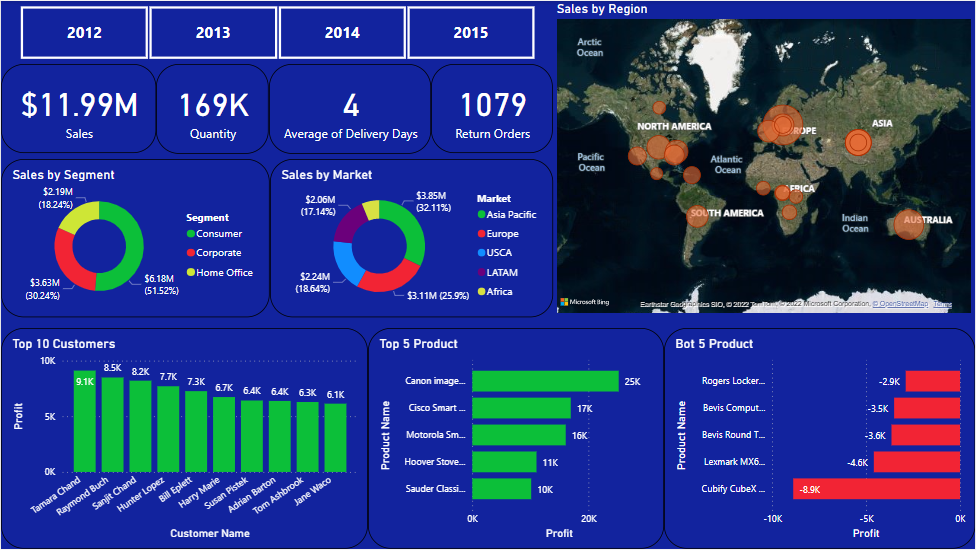

The page's visual inventory and layout, read from the dashboard file:
{"tool":"powerbi","page":{"name":"Page 1","canvas":[1280,720],"ordinal":0},"visuals":[{"type":"card","fields":{"Values":["Orders.Sales"]},"box":[0,85.4,203.6,114.3],"z":0},{"type":"card","fields":{"Values":["Orders.Quantity"]},"box":[203.6,84.1,148.5,116.9],"z":1000},{"type":"card","fields":{"Values":["Orders.Delivery Days"]},"box":[352.1,86.7,212.8,114.3],"z":2000},{"type":"slicer","fields":{"Values":["Orders.Year"]},"box":[0,0,706.9,82.8],"z":3000},{"type":"card","fields":{"Values":["Returns.Return Orders"]},"box":[565,85.4,141.9,114.3],"z":4000},{"type":"map","fields":{"Size":["Orders.Sales"],"Category":["Orders.Region"]},"box":[706.9,0,572.8,415.2],"z":4001},{"type":"barChart","fields":{"Y":["Orders.Profit"],"Category":["Orders.Product Name"]},"box":[871.1,429.6,408.6,290.4],"z":4002},{"type":"barChart","fields":{"Y":["Orders.Profit"],"Category":["Orders.Product Name"]},"box":[482.2,429.6,388.9,290.4],"z":4003},{"type":"pieChart","fields":{"Category":["Orders.Segment"],"Y":["Orders.Sales"]},"box":[0,207.6,353.4,207.6],"z":4004},{"type":"pieChart","fields":{"Category":["Orders.Market"],"Y":["Orders.Sales"]},"box":[353.4,207.6,353.4,207.6],"z":4005},{"type":"columnChart","fields":{"Y":["Orders.Profit"],"Category":["Orders.Customer Name"]},"box":[0,429.6,482.2,290.4],"z":4006}]}

Visuals, with their boxes in screenshot pixels (x1, y1, x2, y2), scaled from the page's 1280x720 canvas onto the 976x550 screenshot:
card - Orders.Sales: region(0, 65, 155, 153)
card - Orders.Quantity: region(155, 64, 268, 154)
card - Orders.Delivery Days: region(268, 66, 431, 154)
slicer - Orders.Year: region(0, 0, 539, 63)
card - Returns.Return Orders: region(431, 65, 539, 153)
map - Orders.Sales x Orders.Region: region(539, 0, 975, 317)
barChart - Orders.Profit x Orders.Product Name: region(664, 328, 975, 549)
barChart - Orders.Profit x Orders.Product Name: region(368, 328, 664, 549)
pieChart - Orders.Segment x Orders.Sales: region(0, 159, 269, 317)
pieChart - Orders.Market x Orders.Sales: region(269, 159, 539, 317)
columnChart - Orders.Profit x Orders.Customer Name: region(0, 328, 368, 549)
